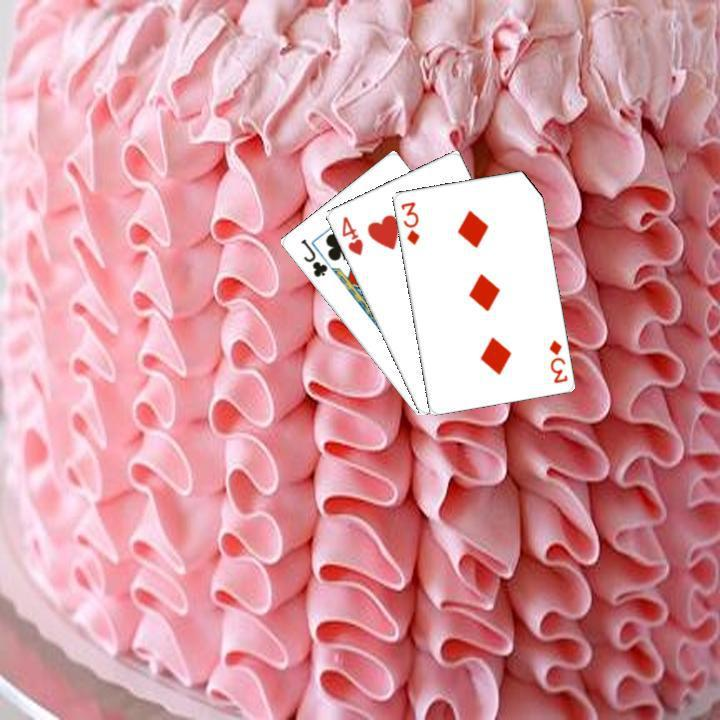3: (396, 197, 421, 247), (544, 335, 569, 385)
4: (337, 212, 365, 257)
J: (296, 234, 329, 279)
